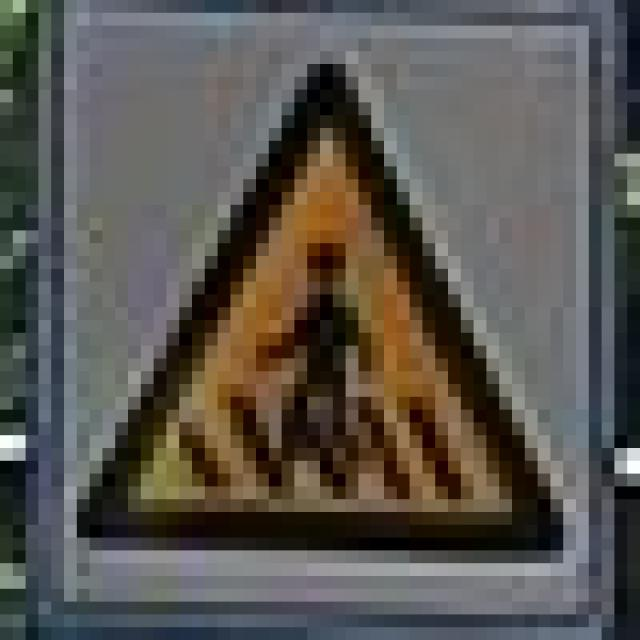pass_either_side: (64, 39, 550, 538)
